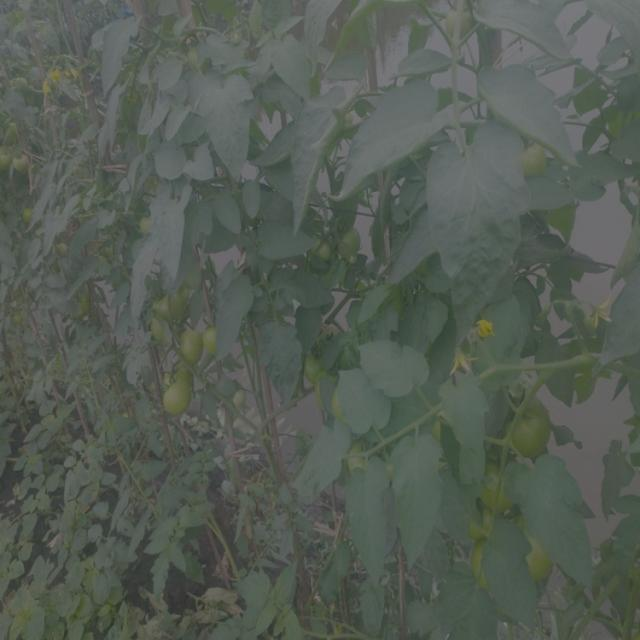tomato: (507, 404, 557, 457), (521, 535, 558, 594), (160, 365, 203, 414), (473, 524, 506, 574), (335, 332, 374, 372), (482, 463, 513, 508), (200, 321, 230, 363), (174, 321, 207, 359), (346, 438, 375, 481), (523, 143, 552, 181), (340, 220, 359, 257), (135, 207, 159, 235)
